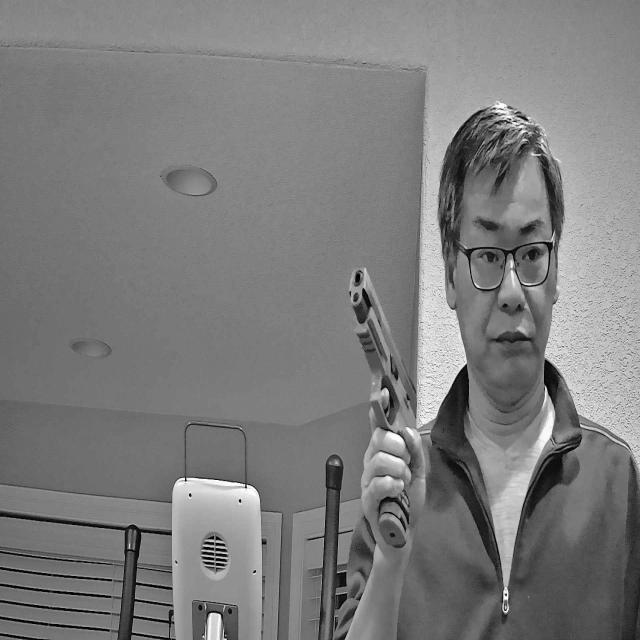Hand-Gun: (348, 256, 426, 553)
